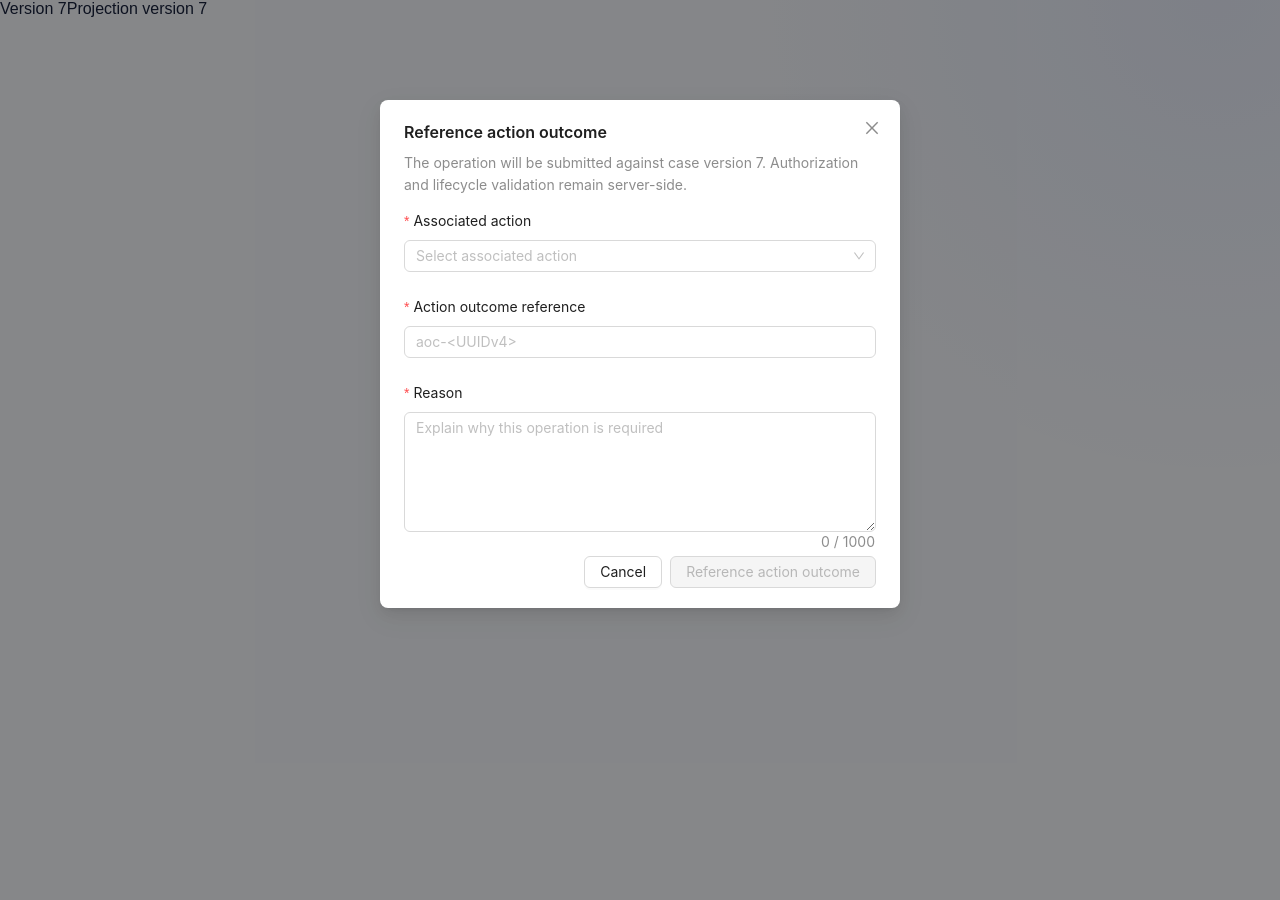
Q-018 association action registry and runner › referenceActionOutcome disables submission while its request is pending
Click the dropdown labelled "Associated action".
click(472, 220)  # box [414,212,531,229]
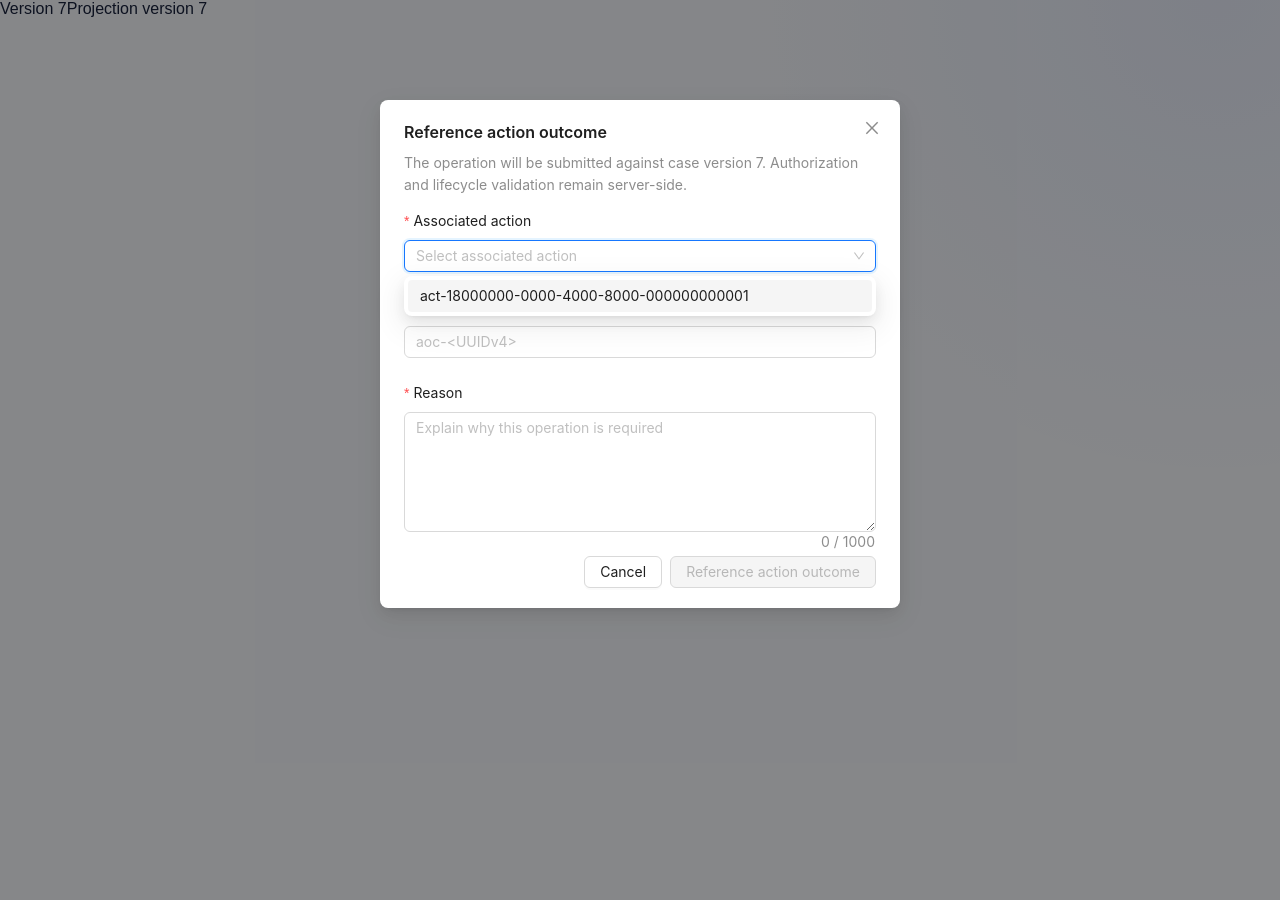
Click the text "act-18000000-0000-4000-8000-000000000001".
click(584, 296)  # box [420,287,749,304]
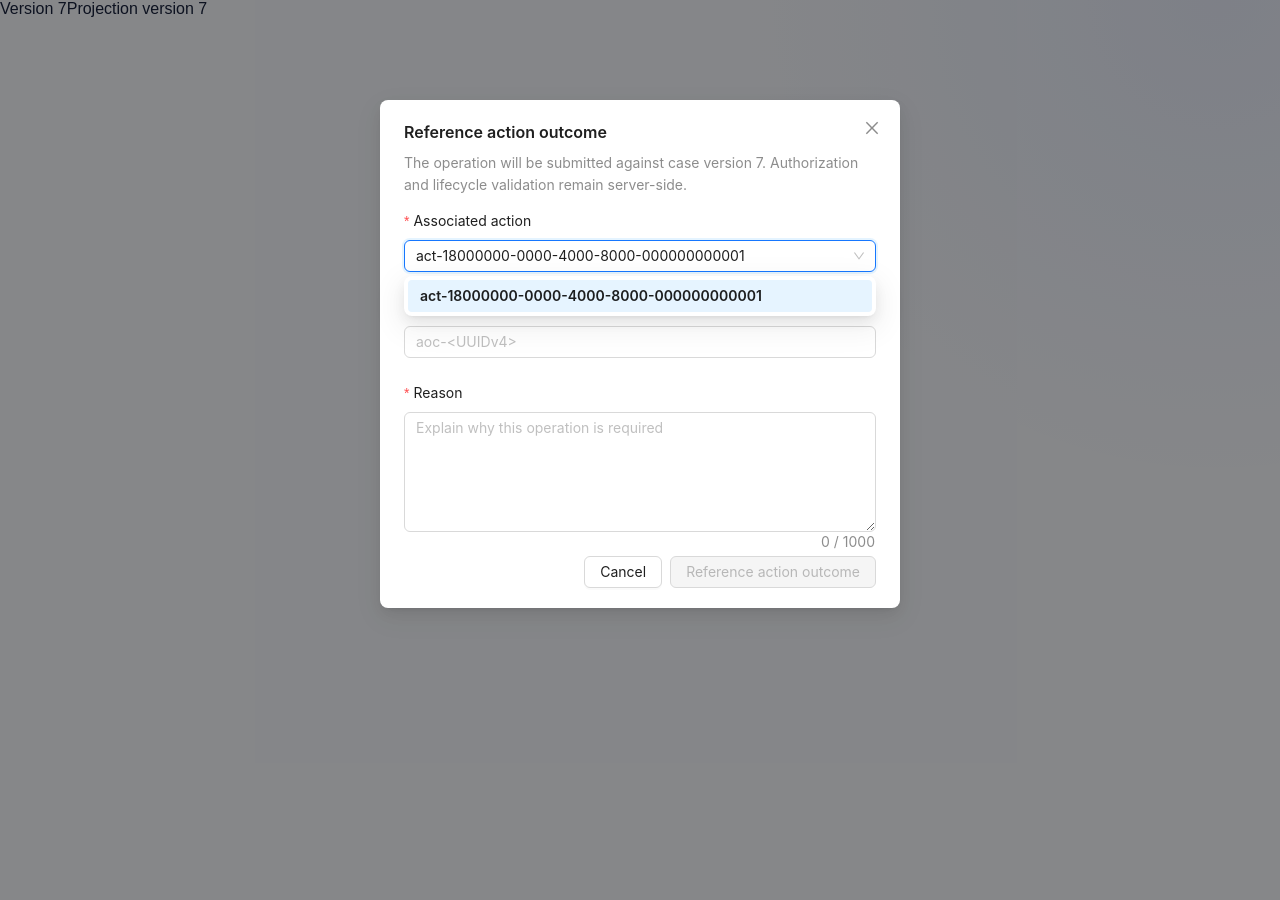
Type "aoc-18000000-0000-4000-8000-000000000001" into the field labelled "Action outcome reference".
click(640, 342); type("aoc-18000000-0000-4000-8000-000000000001")  # box [404,326,876,358]
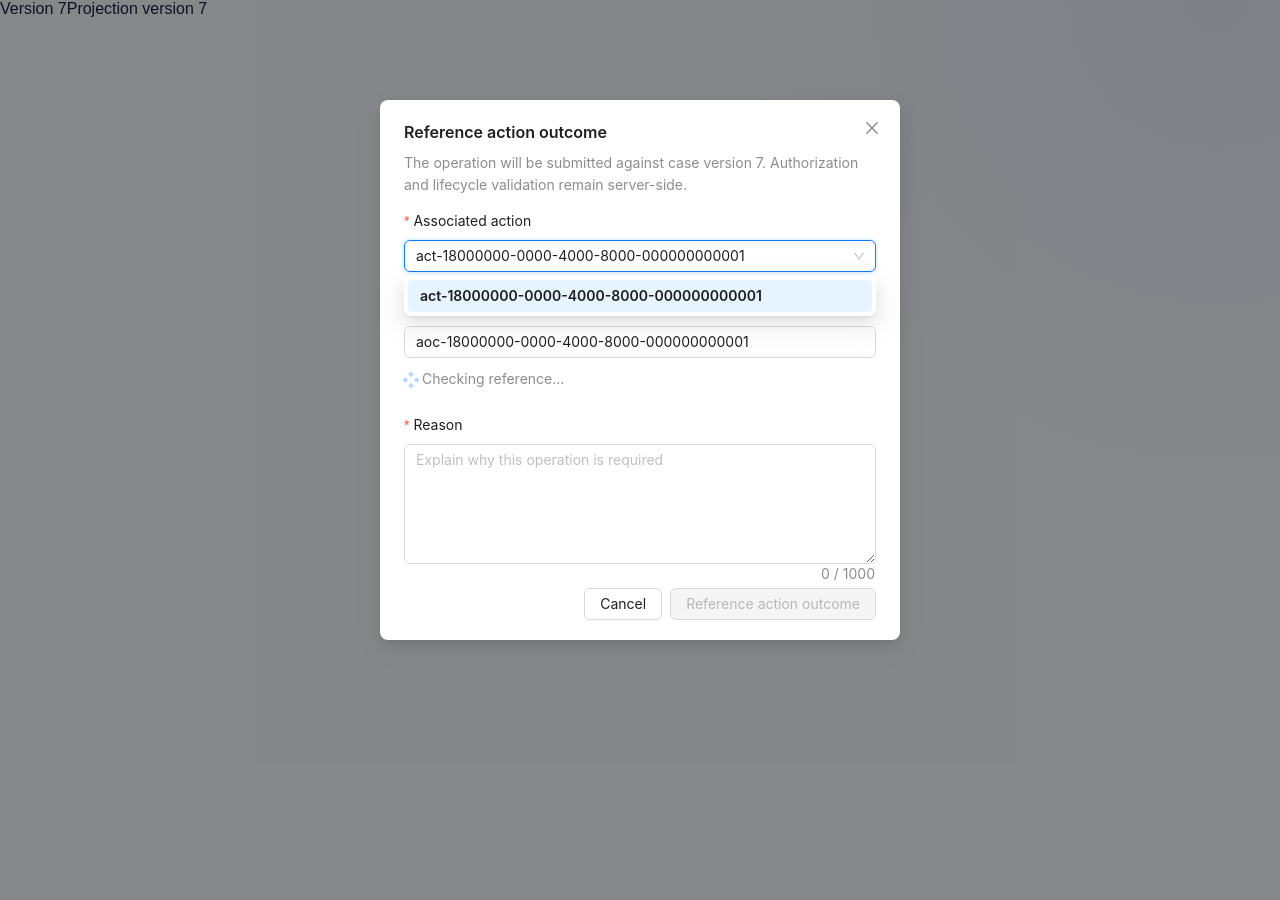
Type "Reference verified outcome." into the text box labelled "Reason".
click(640, 504); type("Reference verified outcome.")  # box [405,445,875,563]
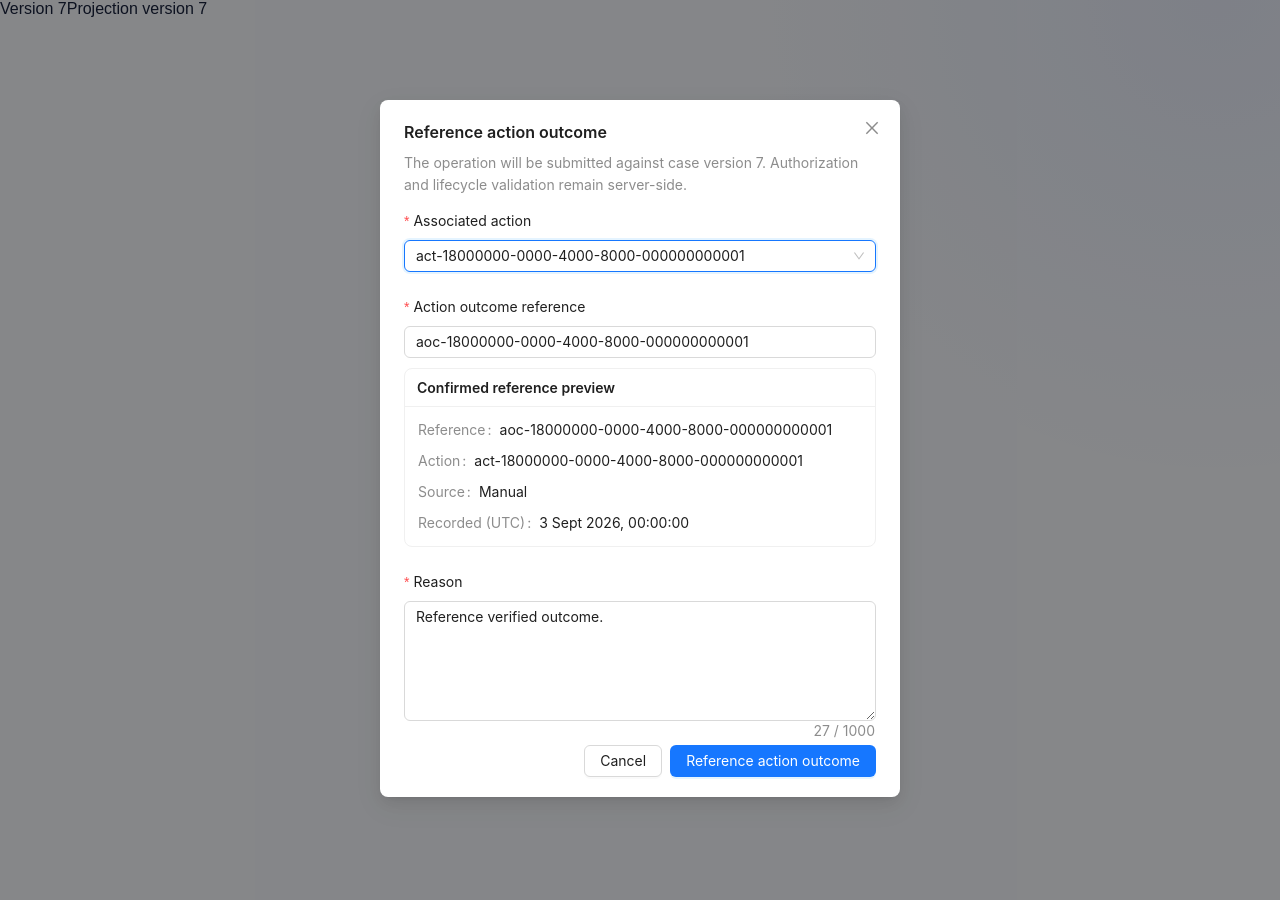
Result: the text "Confirmed reference preview" is shown at [417,378,615,396]
Click the button "Reference action outcome".
click(773, 761)  # box [670,745,876,777]
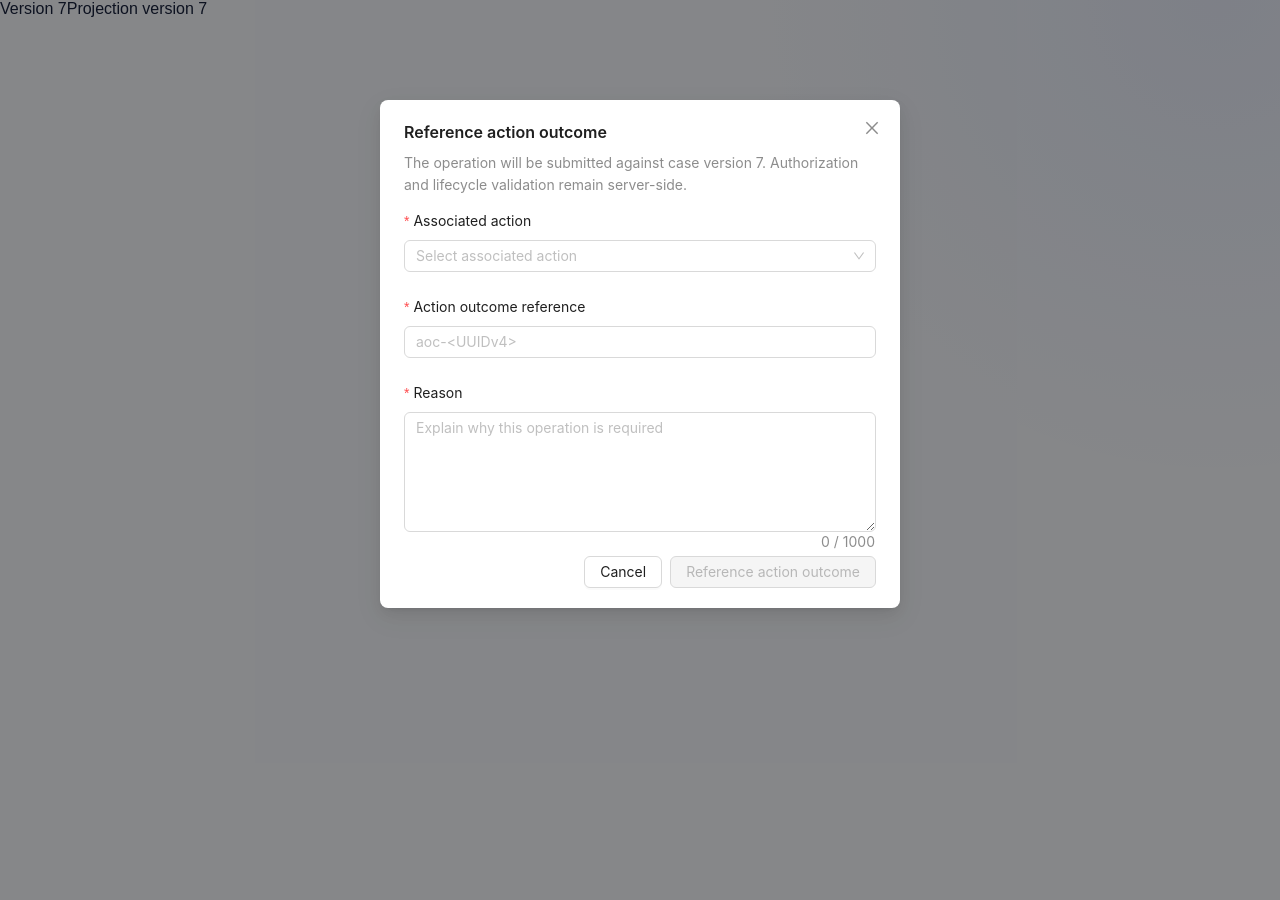
Result: the button "Reference action outcome" is disabled at [670,556,876,588]
